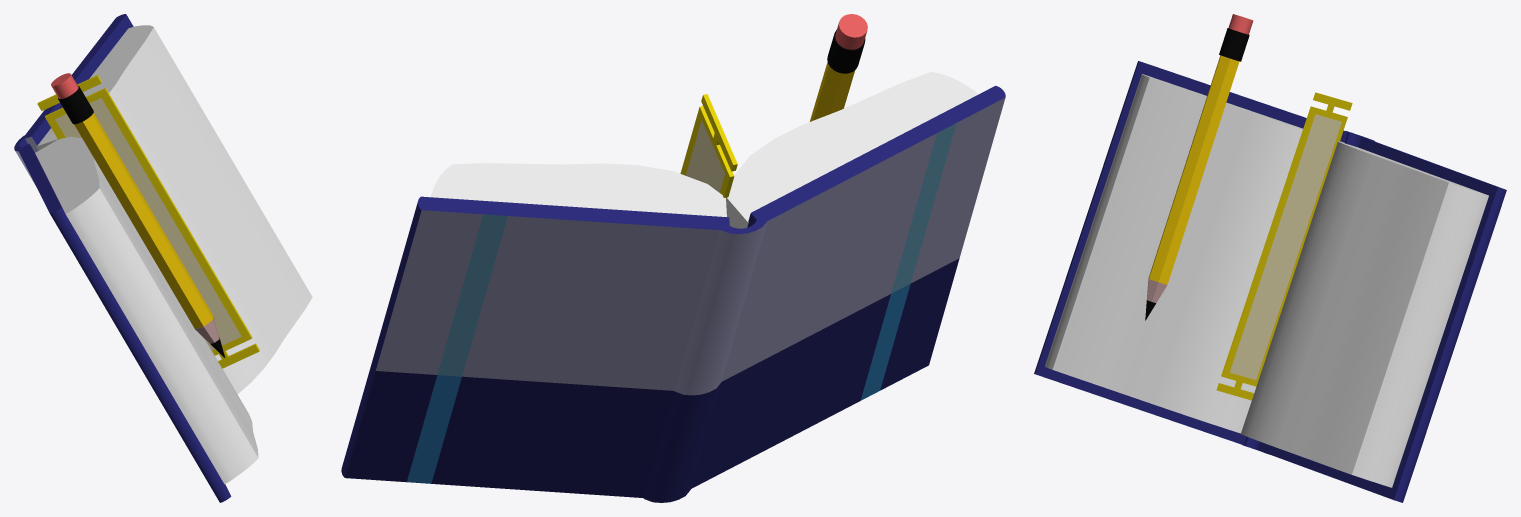
Rendered from BOOK .fbx.
3 renders of one model, left to right at view 1: azimuth 30°, elevation 25°; view 2: azimuth 150°, elevation 25°; view 3: azimuth 270°, elevation 25°, orthographic. The views are drawn at different scales.
Parts seen in each view (by area): view 1: BOOK; view 2: BOOK; view 3: BOOK.
Boxes of the visible parts, bbox=[...] form: BOOK: bbox=[14, 14, 312, 502]; BOOK: bbox=[341, 14, 1005, 502]; BOOK: bbox=[1034, 14, 1506, 502].
Size of the model in its own units: 8.94 by 9.01 by 10.23.
